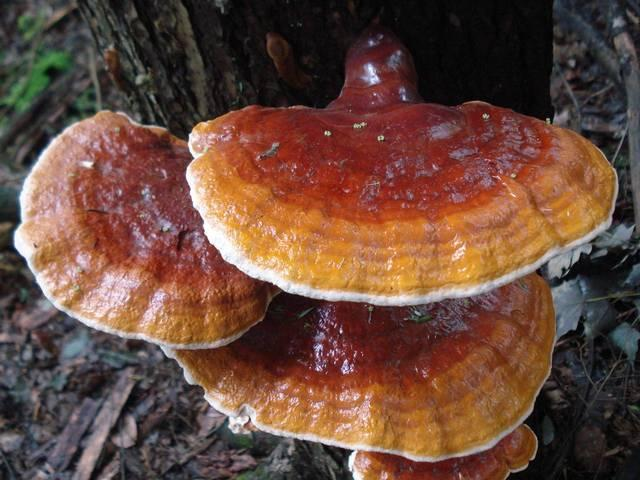poisonous_mushroom: (12, 24, 619, 478)
